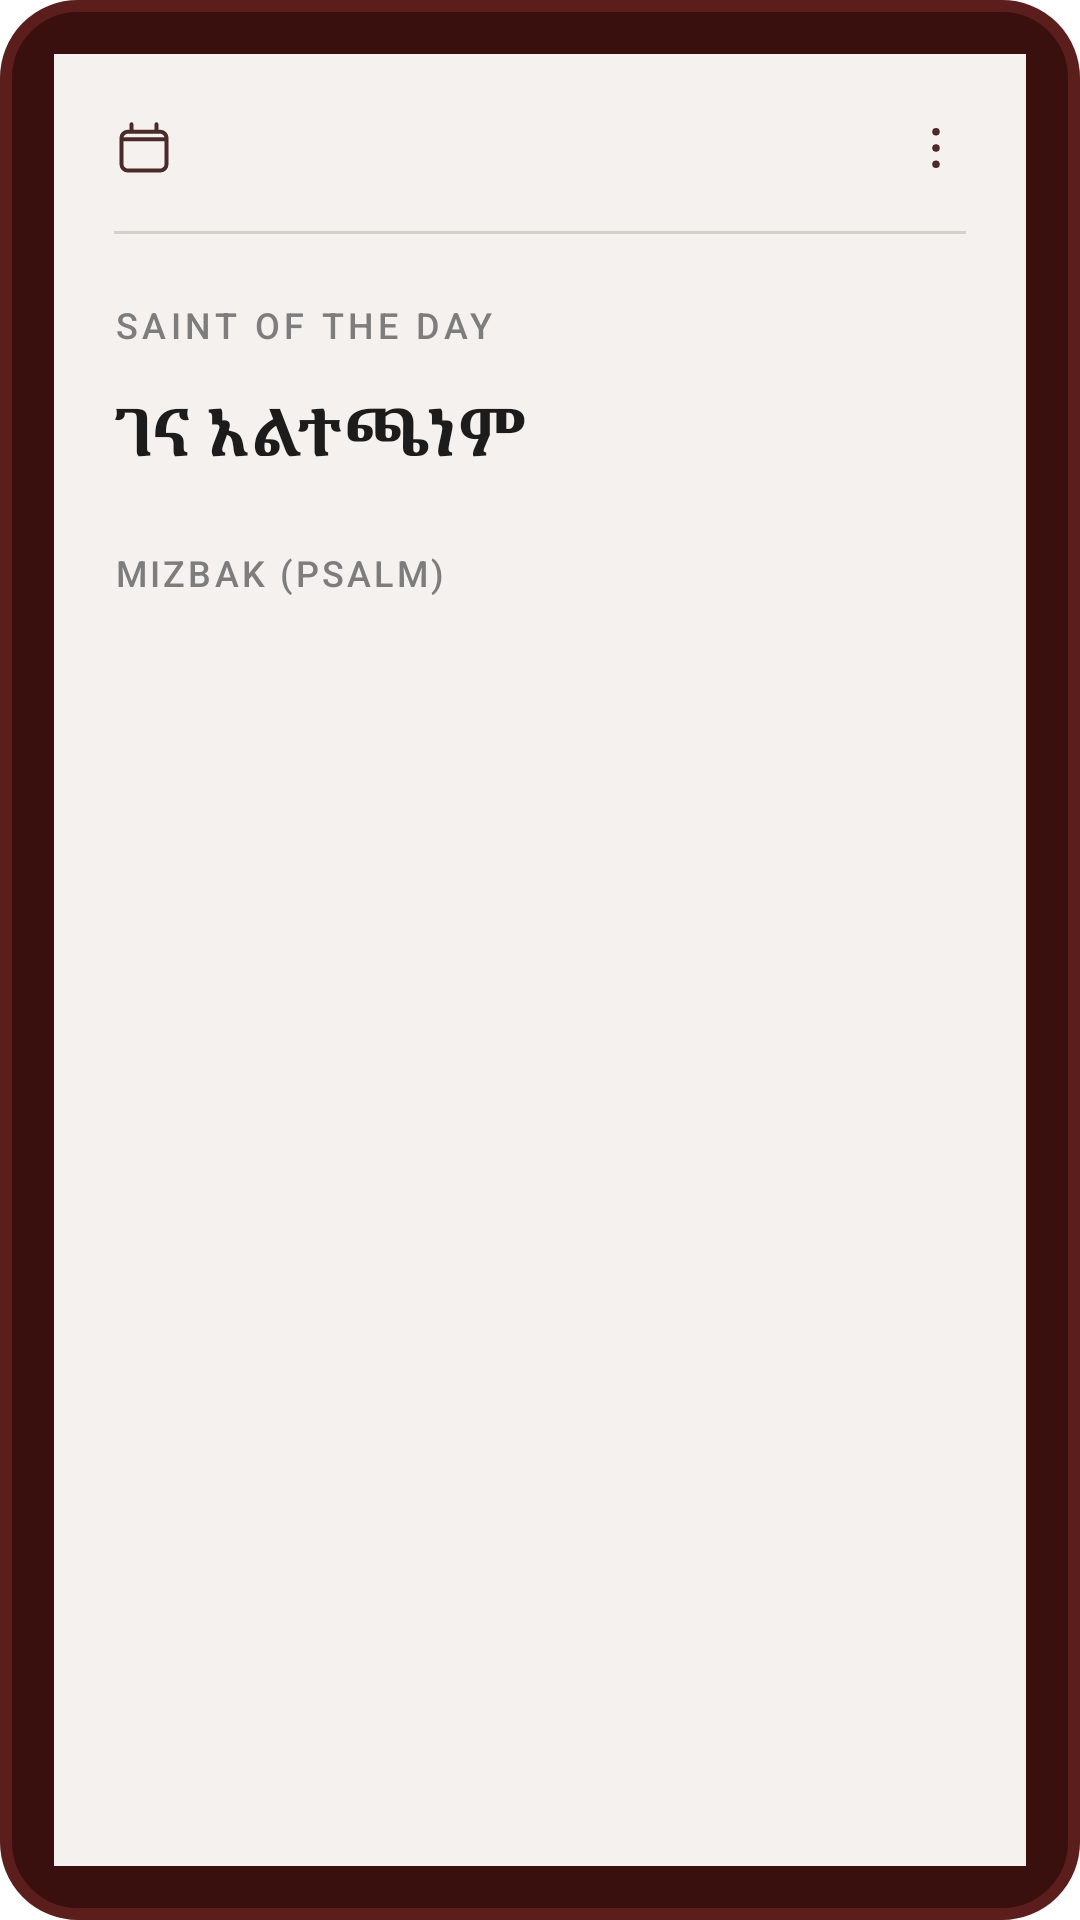

Named icons in this screenshot (1080w x 1920h) and their bounding boxes, (x1,y1,x2,y2):
widget more: (932,128,940,168)
ግጻዌ: (119,122,169,173)
